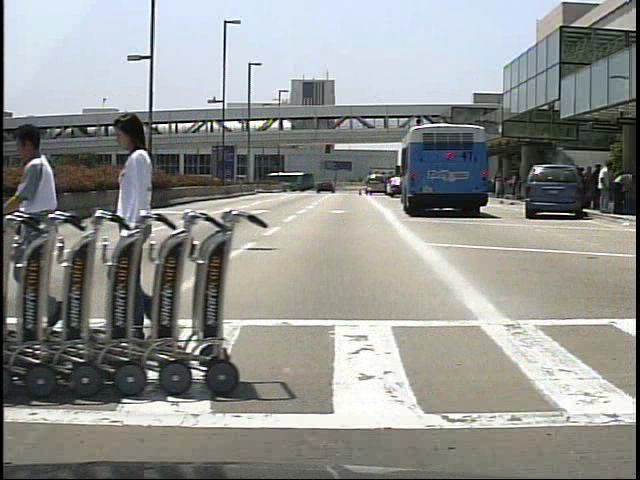person: (102, 109, 193, 352), (4, 121, 80, 340), (598, 160, 619, 214), (589, 163, 605, 215)
